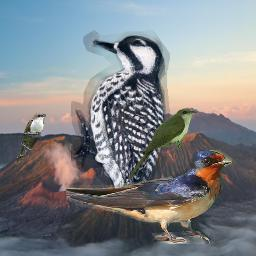Cuckoo: (128, 108, 197, 180), (14, 112, 46, 164)
Swallow: (66, 150, 232, 244)
Woodpecker: (71, 29, 170, 207)
